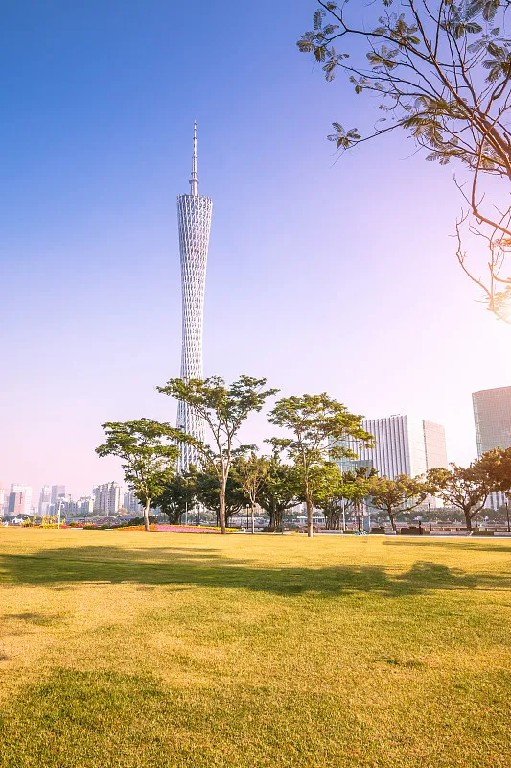Canton: (173, 119, 215, 509)
